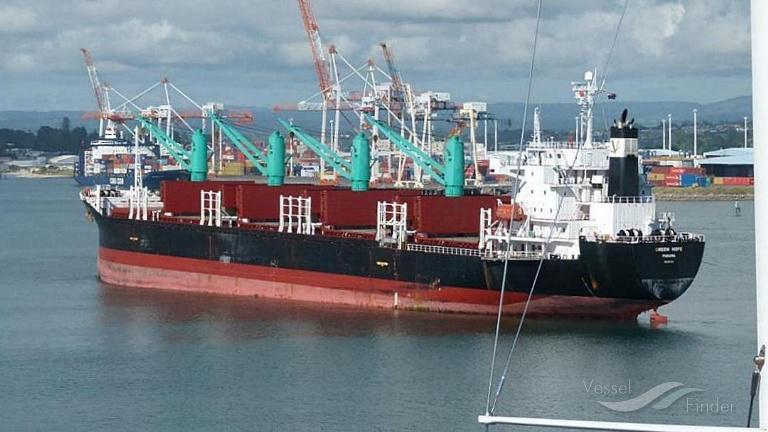OCR: (648, 241, 686, 270)
